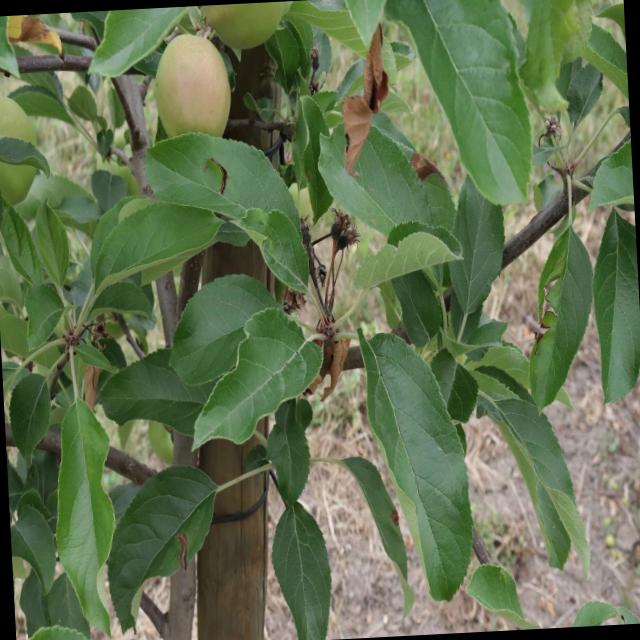-FireBlight-: (337, 82, 376, 178), (304, 316, 348, 384), (358, 35, 389, 107)
